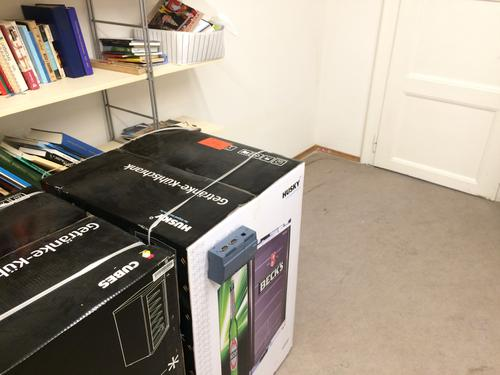iot2000: (207, 225, 259, 287)
